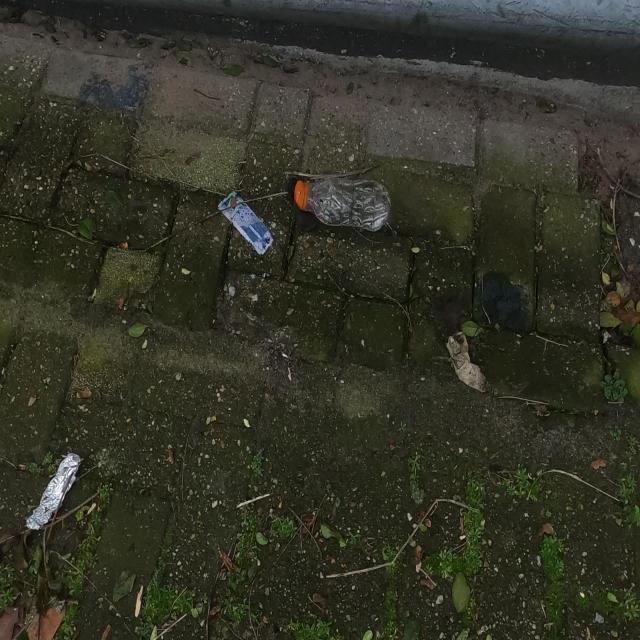Plastic: (27, 449, 85, 536), (218, 189, 274, 256)
